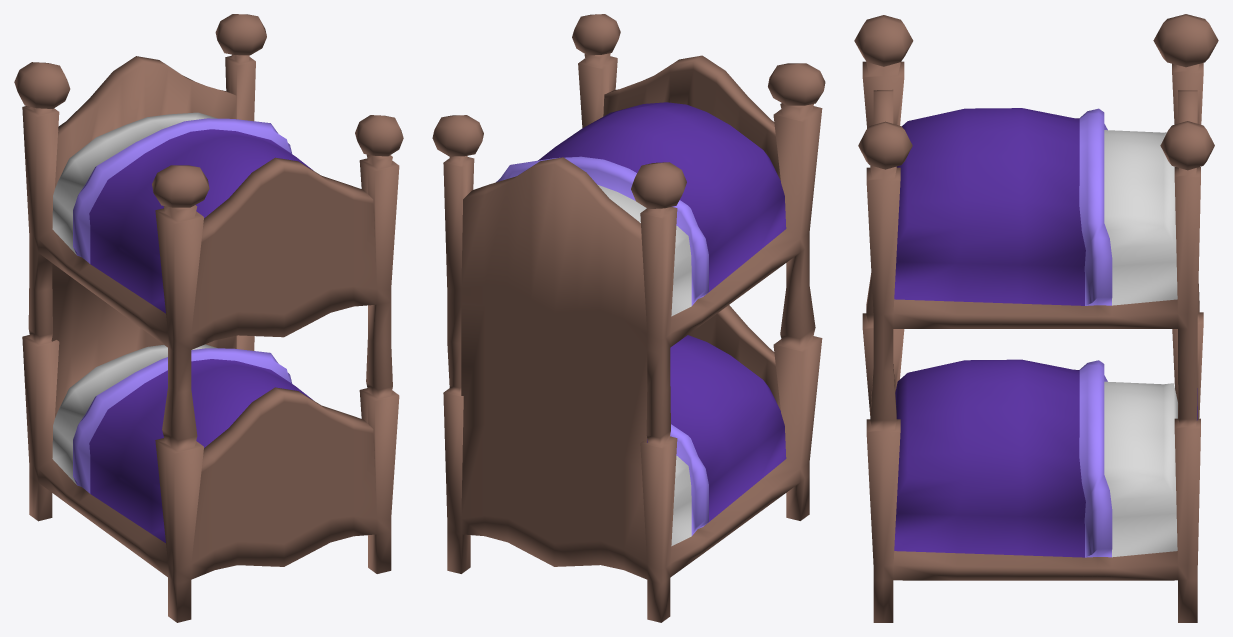
File: props_superposed_bed.fbx
The picture shows the model from 3 angles, left to right: view 1: azimuth 30°, elevation 25°; view 2: azimuth 150°, elevation 25°; view 3: azimuth 270°, elevation 25°; orthographic projection. The views are drawn at different scales.
Parts seen in each view (by area): view 1: props_double_bed.001; view 2: props_double_bed.001; view 3: props_double_bed.001.
Boxes of the visible parts, x1,y1,x2,y2 form: props_double_bed.001: (14,14,403,622); props_double_bed.001: (432,14,825,622); props_double_bed.001: (854,14,1218,622).
Size of the model in its own units: 2.94 by 3.39 by 5.09.
